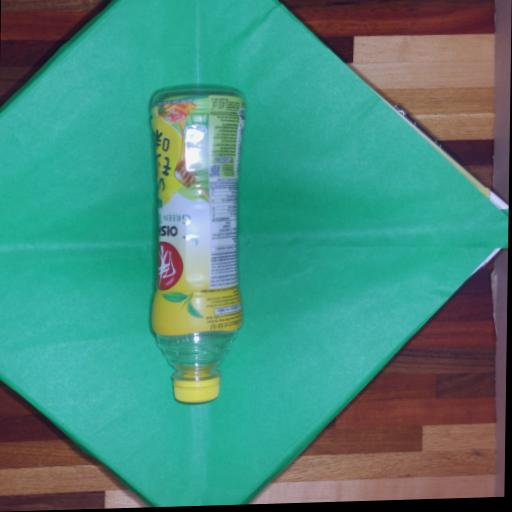bottle: (151, 90, 243, 402)
